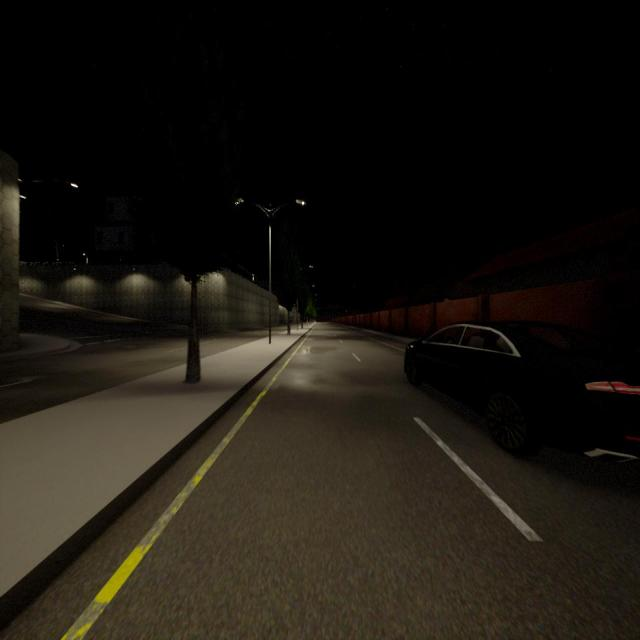Vehicle: (404, 323, 640, 451)
